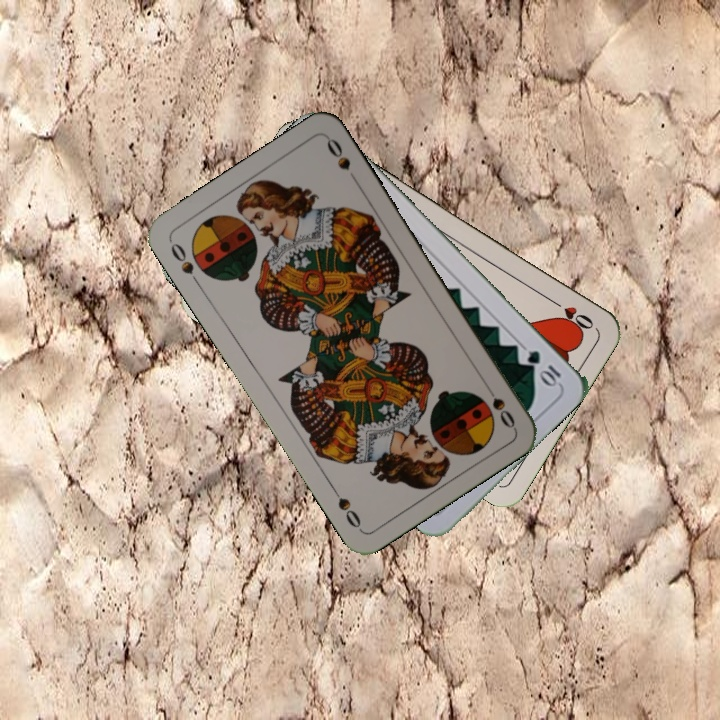G10: (523, 346, 564, 389)
HO: (544, 294, 597, 332)
SO: (480, 378, 518, 431), (166, 239, 204, 290)
